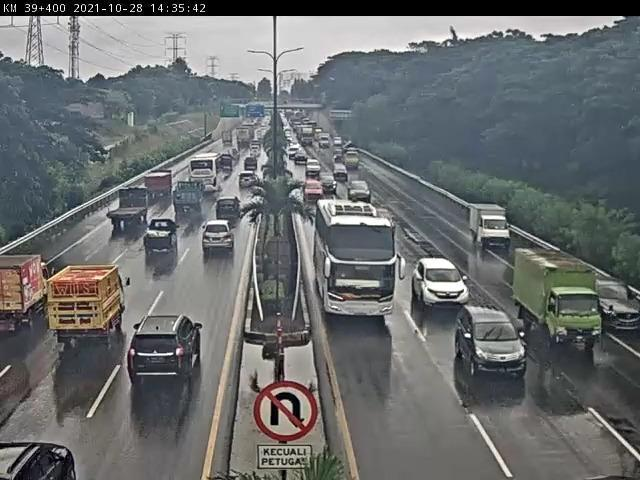bus: (315, 200, 400, 319), (185, 156, 223, 195)
car: (128, 315, 203, 387), (456, 303, 528, 377), (1, 442, 77, 480), (411, 258, 469, 305), (592, 283, 640, 329), (468, 205, 512, 250), (138, 226, 177, 268), (199, 228, 235, 263), (214, 197, 242, 225), (349, 180, 371, 199), (238, 172, 258, 191), (379, 209, 396, 226), (319, 173, 335, 190), (305, 180, 322, 195), (244, 159, 259, 173), (306, 161, 320, 174), (333, 165, 346, 178), (249, 146, 262, 158), (227, 150, 240, 162), (296, 153, 307, 163)
truck: (515, 249, 604, 346), (51, 266, 128, 342), (1, 254, 49, 324), (109, 190, 153, 229), (169, 186, 202, 220), (142, 172, 173, 200), (342, 148, 362, 171), (236, 127, 254, 149), (219, 155, 233, 173)
